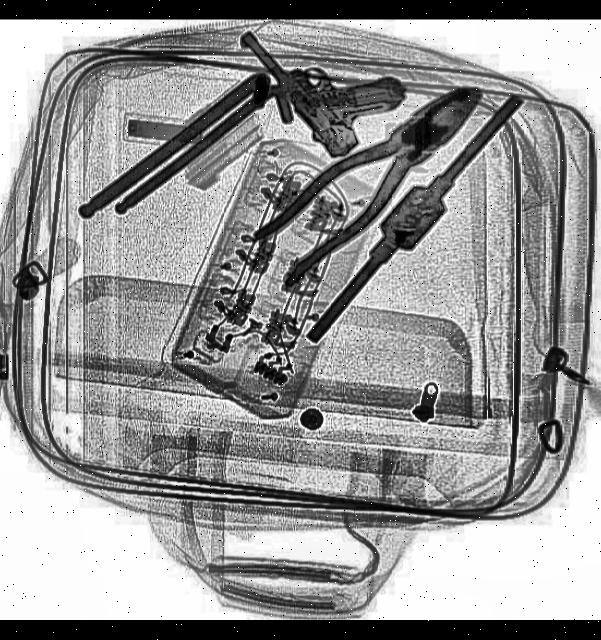Gun: (228, 29, 411, 166)
Pliers: (244, 57, 502, 290)
